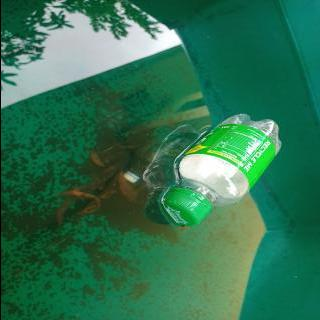bottle: (158, 110, 286, 228)
